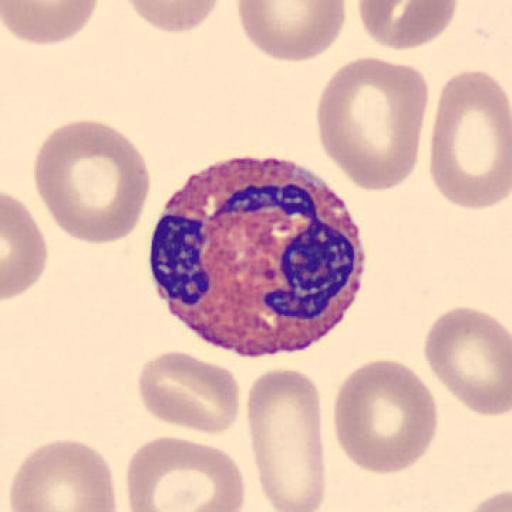RBC: (316, 55, 428, 192), (33, 117, 152, 245), (331, 357, 438, 475), (429, 68, 512, 210), (246, 365, 326, 512), (422, 304, 512, 418), (125, 434, 248, 512), (136, 350, 242, 436), (8, 437, 117, 512), (237, 0, 348, 63), (1, 192, 50, 302), (357, 0, 459, 51), (2, 0, 99, 45), (123, 0, 223, 35), (462, 486, 511, 512)
WBC: (145, 156, 368, 357)
